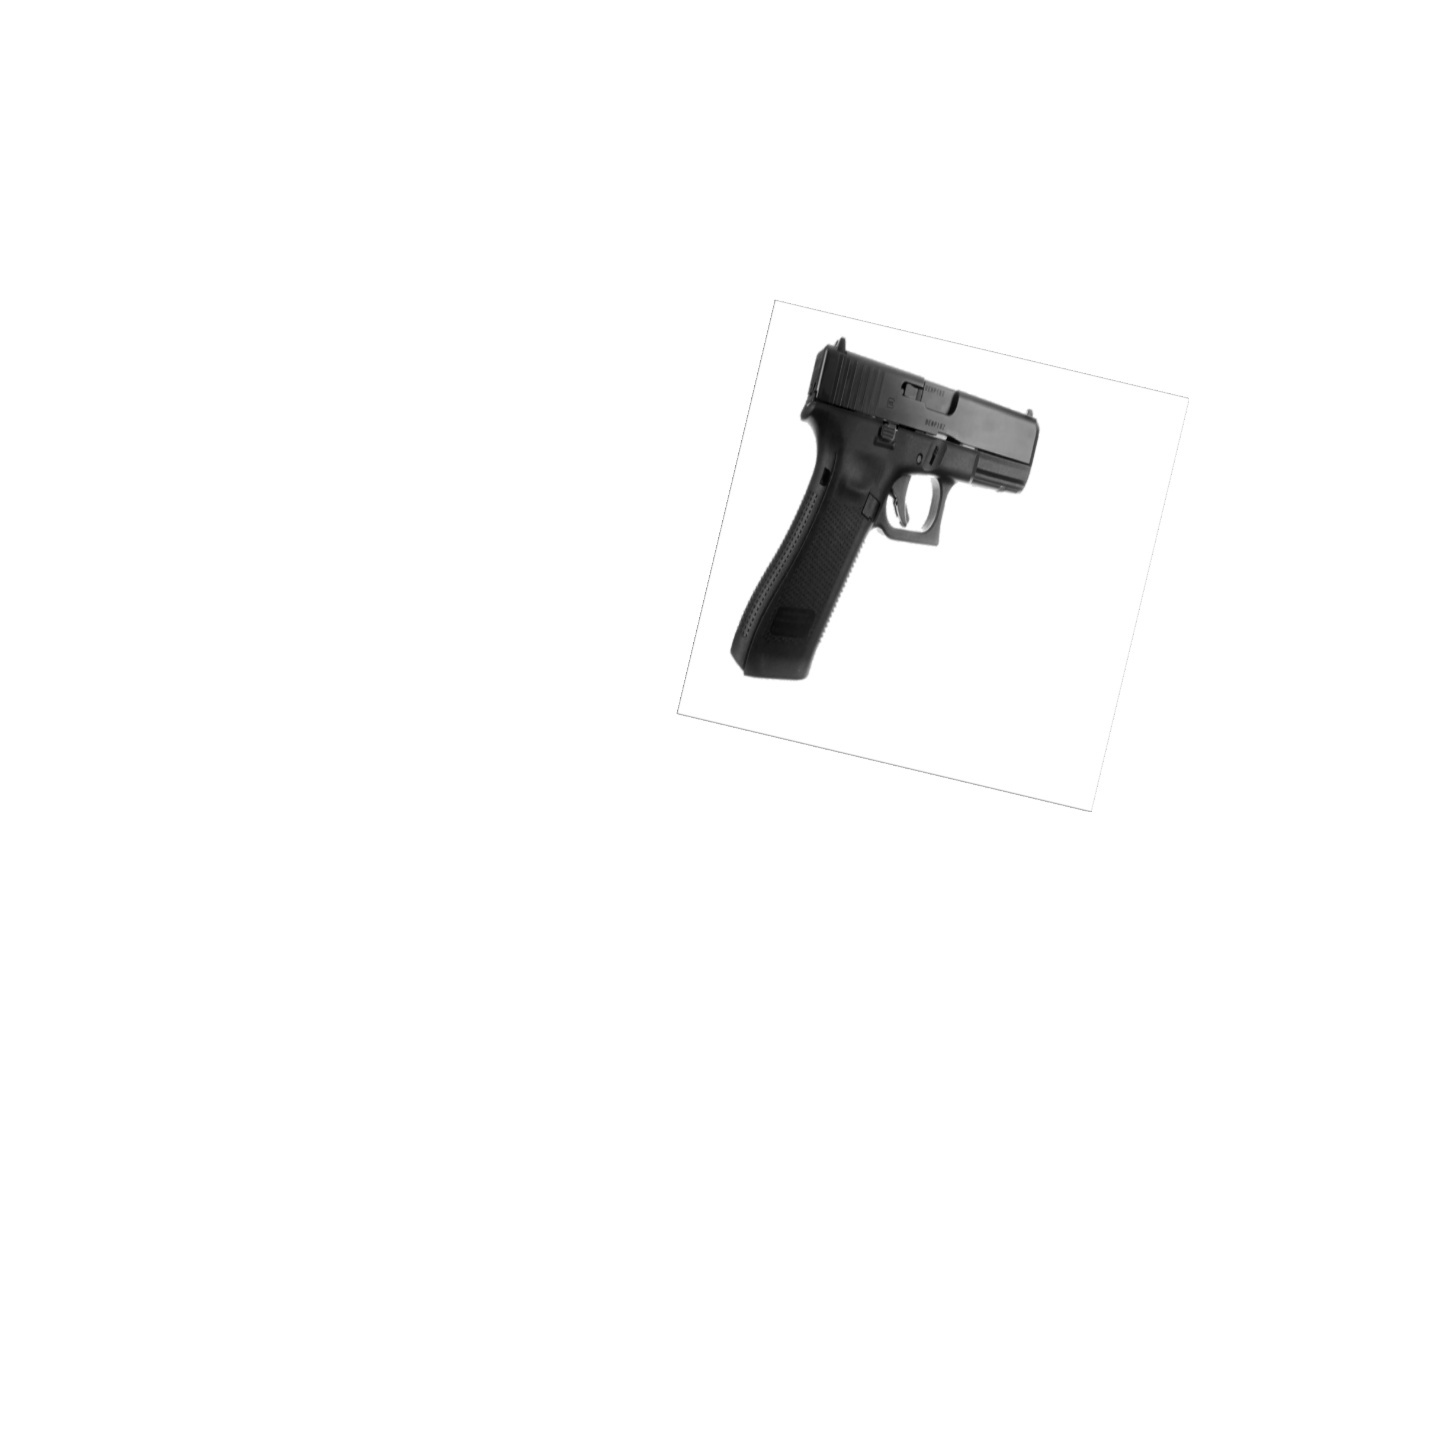gun: (728, 336, 1042, 683)
